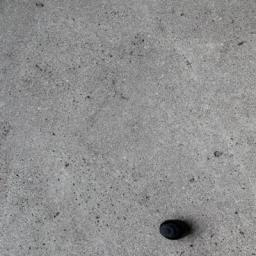FOD: (158, 215, 197, 244)
